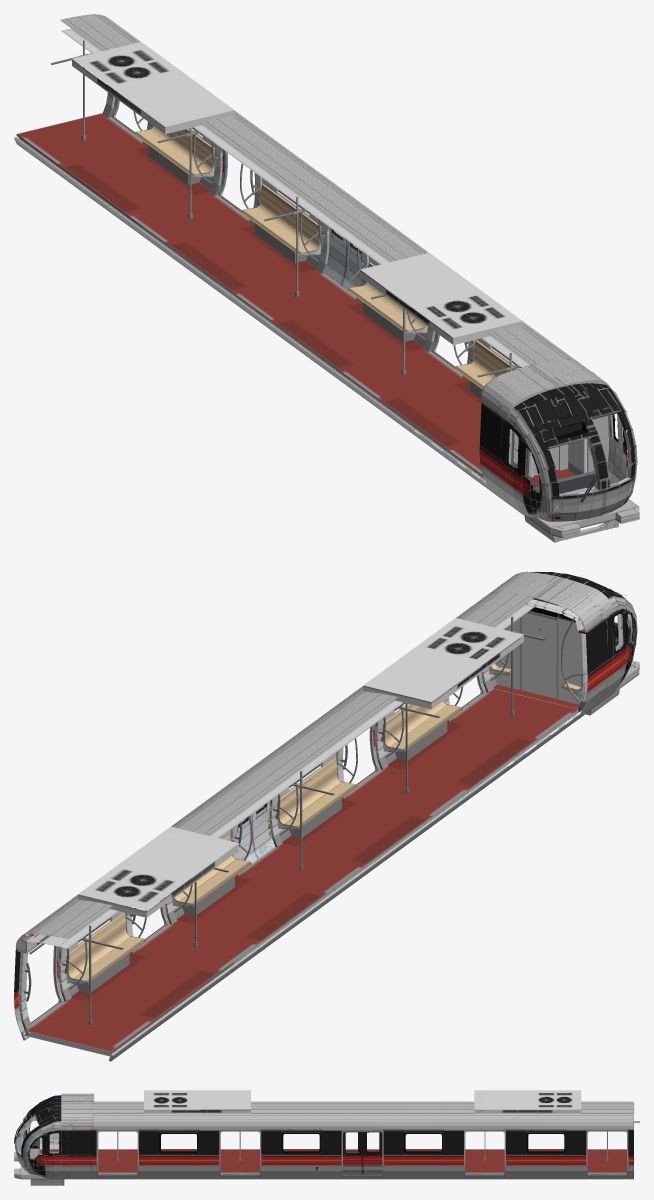
Rendered from trm01.obj.
3 views of the same model, one above another, from view 1: azimuth 30°, elevation 25°; view 2: azimuth 150°, elevation 25°; view 3: azimuth 270°, elevation 25° (orthographic). The views are drawn at different scales.
Visible parts, largest first — view 1: inside, head, outside, ac, chairs, end, head_in, center_bones, door_left_in; view 2: inside, outside, ac, chairs, head_in, head, end, center_bones, end_in, door_border, door_right_in; view 3: outside, ac, inside, head, end, door_border, head_in, door_left, door_right, center_bones.
Part boxes in pixels (left/top/right/bottom): inside: left=16, top=28, right=530, bottom=477; head: left=479, top=359, right=639, bottom=542; outside: left=14, top=14, right=577, bottom=490; ac: left=72, top=42, right=522, bottom=344; chairs: left=133, top=111, right=516, bottom=398; end: left=479, top=359, right=613, bottom=509; head_in: left=511, top=410, right=632, bottom=519; center_bones: left=51, top=40, right=519, bottom=377; door_left_in: left=324, top=227, right=346, bottom=285; inside: left=17, top=605, right=578, bottom=1053; outside: left=14, top=589, right=580, bottom=1061; ac: left=78, top=618, right=523, bottom=917; chairs: left=66, top=686, right=463, bottom=992; head_in: left=490, top=576, right=635, bottom=708; head: left=492, top=571, right=639, bottom=718; end: left=488, top=572, right=613, bottom=718; center_bones: left=80, top=616, right=545, bottom=1024; end_in: left=488, top=603, right=587, bottom=711; door_border: left=19, top=674, right=485, bottom=1024; door_right_in: left=252, top=801, right=274, bottom=858; outside: left=88, top=1101, right=634, bottom=1179; ac: left=144, top=1090, right=581, bottom=1113; inside: left=98, top=1121, right=639, bottom=1174; head: left=14, top=1093, right=93, bottom=1185; end: left=61, top=1093, right=94, bottom=1179; door_border: left=96, top=1129, right=628, bottom=1176; head_in: left=16, top=1114, right=60, bottom=1171; door_left: left=362, top=1131, right=382, bottom=1174; door_right: left=343, top=1131, right=362, bottom=1174; center_bones: left=117, top=1131, right=608, bottom=1161.
Bounding box in the file's own units: 2.92 × 3.45 × 25.58.
Materials: 1 (1 with a texture image).
